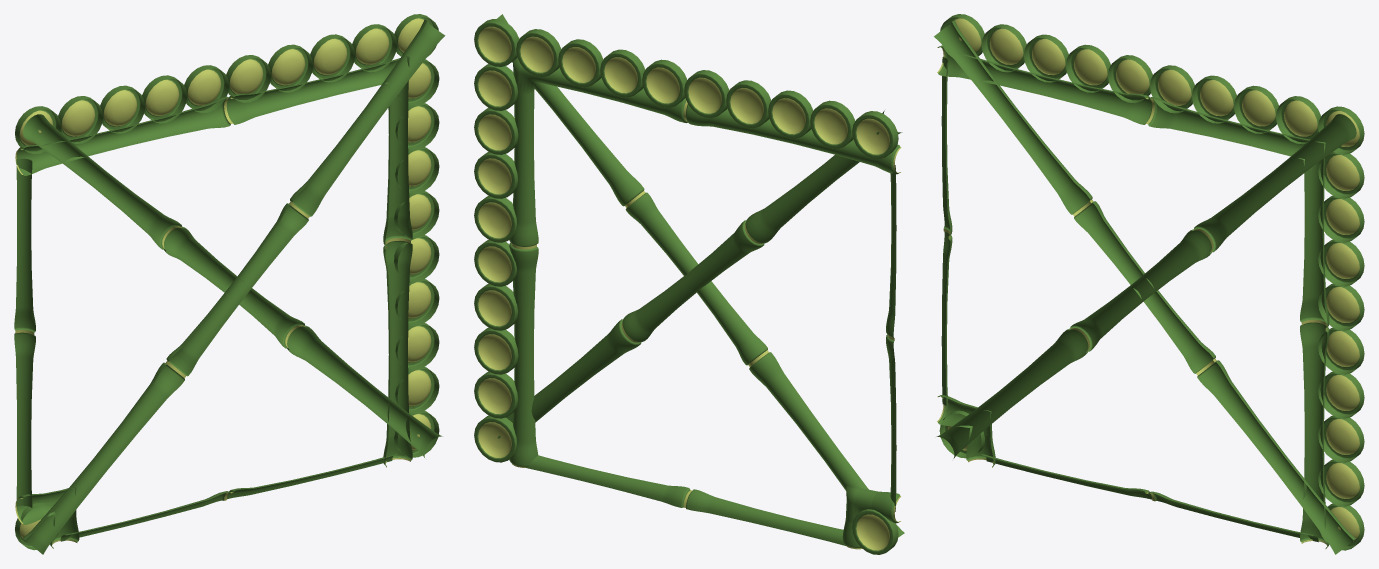
Rendered from Bamboo_Structure_Corner_Face.fbx.
3 renders of one model, left to right at view 1: azimuth 30°, elevation 25°; view 2: azimuth 150°, elevation 25°; view 3: azimuth 330°, elevation 25°, orthographic.
Visible parts, largest first — view 1: Bamboo_Structure_Corner_Face; view 2: Bamboo_Structure_Corner_Face; view 3: Bamboo_Structure_Corner_Face.
Boxes of the visible parts, x1,y1,x2,y2 form: Bamboo_Structure_Corner_Face: (14, 14, 445, 554); Bamboo_Structure_Corner_Face: (474, 14, 904, 554); Bamboo_Structure_Corner_Face: (934, 14, 1364, 554).
Bounding box in the file's own units: 100 × 100 × 6.14.
